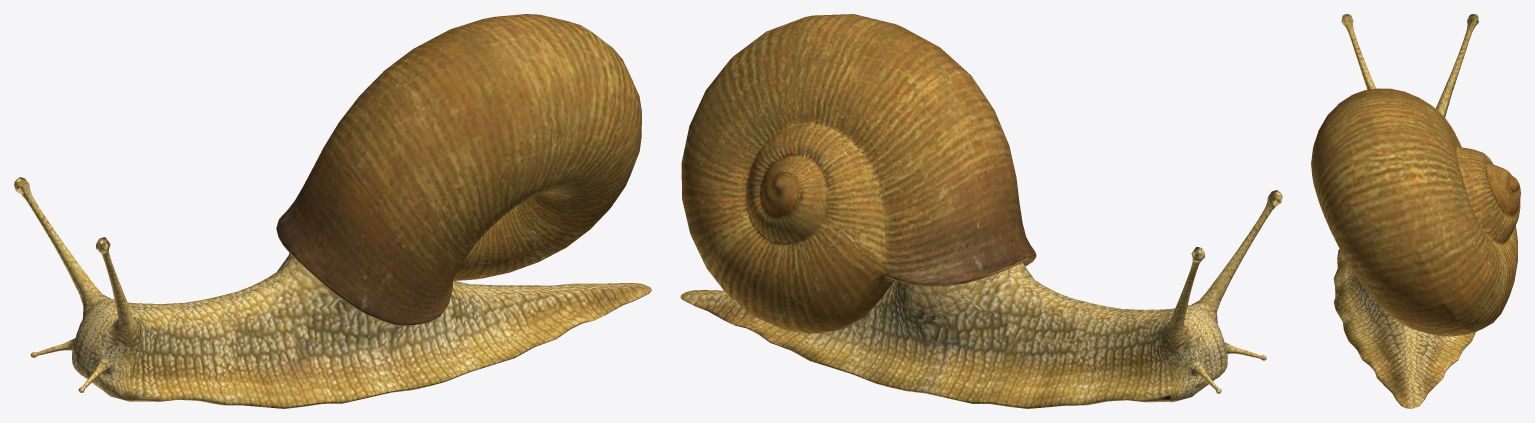
The model's file is woniu.fbx.
3 views of the same model, side by side, from view 1: azimuth 30°, elevation 25°; view 2: azimuth 150°, elevation 25°; view 3: azimuth 270°, elevation 25° (orthographic). The views are drawn at different scales.
Parts seen in each view (by area): view 1: polySurface1; view 2: polySurface1; view 3: polySurface1.
Boxes of the visible parts, box(x1,y1,x2,y2) form: polySurface1: box(14, 14, 651, 408); polySurface1: box(680, 14, 1282, 408); polySurface1: box(1311, 14, 1520, 408).
Size of the model in its own units: 22.51 by 11.47 by 8.89.
1 material, 1 textured.
